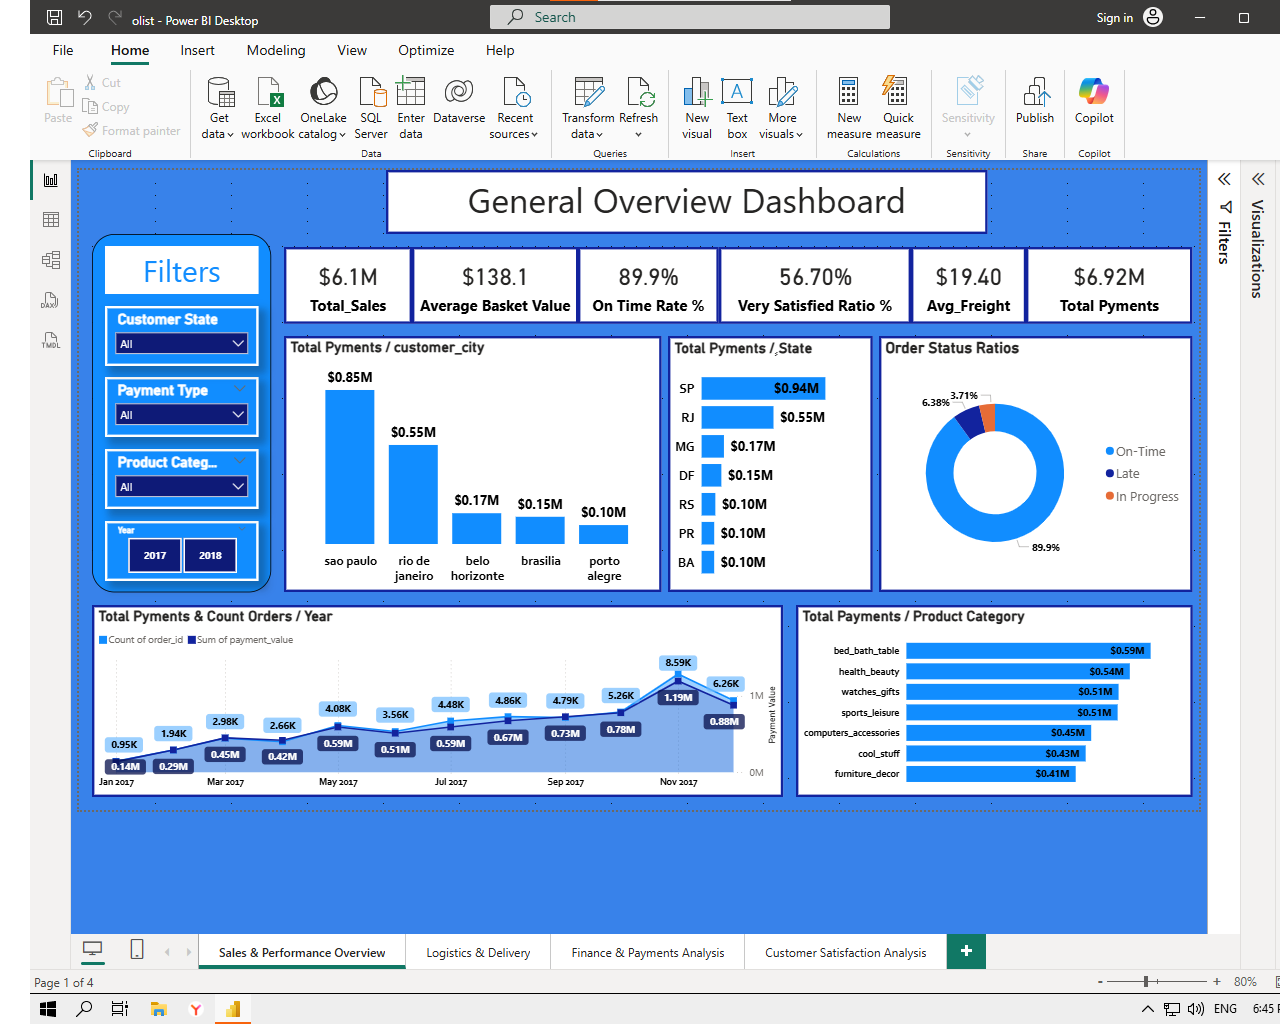

This screenshot's page, from the dashboard's own definition file:
{"tool":"powerbi","page":{"name":"Sales & Performance Overview","canvas":[1400,800],"ordinal":0},"visuals":[{"type":"textbox","box":[16,80,224,448],"z":0,"group":"g2"},{"type":"card","fields":{"Values":["Mesures.Total_Sales"]},"box":[256,96,160,96],"z":0},{"type":"card","fields":{"Values":["Mesures.Average Basket Value"]},"box":[416,96,208,96],"z":1000},{"type":"card","fields":{"Values":["Mesures.Avg_Freight"]},"box":[1040,96,144,96],"z":2000},{"type":"card","fields":{"Values":["Mesures.On_Time Rate %"]},"box":[624,96,176,96],"z":3000},{"type":"lineChart","title":"Total Pyments & Count Orders / Year","fields":{"Category":["orders_status.purchase_time.Variation.Date Hierarchy.Year","orders_status.purchase_time.Variation.Date Hierarchy.Month"],"Y":["CountNonNull(order_items (Fact).order_id)"],"Y2":["Sum(payments.payment_value)"]},"box":[16,544,864,240],"z":4000},{"type":"card","fields":{"Values":["Mesures.Total Pyments (order_delivered only)"]},"box":[1184,96,208,96],"z":5000},{"type":"columnChart","title":"Total Pyments / customer_city","fields":{"Category":["customers.customer_city"],"Y":["Mesures.Total Pyments (order_delivered only)"]},"box":[256,208,472,320],"z":6000},{"type":"barChart","title":"Total Pyments / ٍState","fields":{"Category":["customers.customer_state"],"Y":["Mesures.Total Pyments (order_delivered only)"]},"box":[736,208,256,320],"z":7000},{"type":"barChart","title":"Total Payments / Product Category","fields":{"Y":["Mesures.Total Pyments (order_delivered only)"],"Category":["product_category_translation.product_category_name_english"]},"box":[896,544,496,240],"z":8000},{"type":"donutChart","title":"Order Status Ratios","fields":{"Category":["orders_status.Arrival State"],"Y":["CountNonNull(orders_status.Arrival State)"]},"box":[1000,208,392,320],"z":9000},{"type":"textbox","box":[384,0,752,80],"z":10000},{"type":"card","fields":{"Values":["Mesures.high_satisfication Rate %"]},"box":[800,96,240,96],"z":11000},{"type":"group","id":"g1","title":"Group 1","box":[16,80,224,448],"z":12000},{"type":"slicer","fields":{"Values":["orders_status.purchase_time.Variation.Date Hierarchy.Year"]},"box":[32,438.4,192,74.7],"z":12000,"group":"g2"},{"type":"group","id":"g2","title":"Group 2","box":[16,80,224,448],"z":12001,"group":"g1"},{"type":"slicer","fields":{"Values":["product_category_translation.product_category_name_english"]},"box":[32,348.8,192,74.7],"z":13000,"group":"g2"},{"type":"slicer","fields":{"Values":["payments.payment_type"]},"box":[32,259.2,192,74.7],"z":14000,"group":"g2"},{"type":"slicer","fields":{"Values":["customers.customer_state"]},"box":[32,169.6,192,74.7],"z":15000,"group":"g2"},{"type":"textbox","box":[32,94.9,192,59.7],"z":16000,"group":"g2"}]}

Visuals, with their boxes on the page's 1400x800 design canvas (x1, y1, x2, y2). These are canvas units, not pixel positions in the 1280x1024 screenshot, which may show the page scaled, cropped or inside an application window:
textbox: 16,80,240,528
card - Mesures.Total_Sales: 256,96,416,192
card - Mesures.Average Basket Value: 416,96,624,192
card - Mesures.Avg_Freight: 1040,96,1184,192
card - Mesures.On_Time Rate %: 624,96,800,192
"Total Pyments & Count Orders / Year" lineChart: 16,544,880,784
card - Mesures.Total Pyments (order_delivered only): 1184,96,1392,192
"Total Pyments / customer_city" columnChart: 256,208,728,528
"Total Pyments / ٍState" barChart: 736,208,992,528
"Total Payments / Product Category" barChart: 896,544,1392,784
"Order Status Ratios" donutChart: 1000,208,1392,528
textbox: 384,0,1136,80
card - Mesures.high_satisfication Rate %: 800,96,1040,192
"Group 1" group: 16,80,240,528
slicer - orders_status.purchase_time.Variation.Date Hierarchy.Year: 32,438,224,513
"Group 2" group: 16,80,240,528
slicer - product_category_translation.product_category_name_english: 32,349,224,424
slicer - payments.payment_type: 32,259,224,334
slicer - customers.customer_state: 32,170,224,244
textbox: 32,95,224,155
